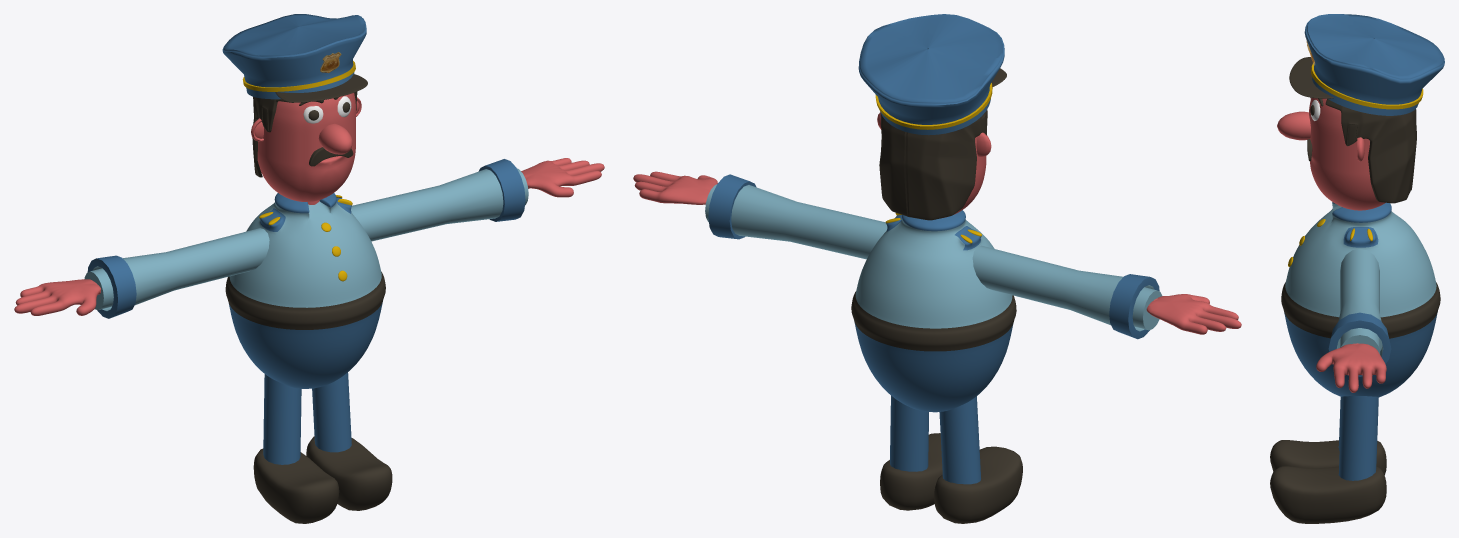
The model's file is police 1.fbx.
3 views of the same model, side by side, from view 1: azimuth 30°, elevation 25°; view 2: azimuth 150°, elevation 25°; view 3: azimuth 270°, elevation 25° (orthographic). The views are drawn at different scales.
Visible parts, largest first — view 1: Subdivision_Surface_2; view 2: Subdivision_Surface_2; view 3: Subdivision_Surface_2.
Boxes of the visible parts, <box> form: Subdivision_Surface_2: <box>14,14,604,523</box>; Subdivision_Surface_2: <box>633,14,1241,523</box>; Subdivision_Surface_2: <box>1270,14,1444,523</box>.
Size of the model in its own units: 842 by 641 by 214.
8 materials, 1 textured.
